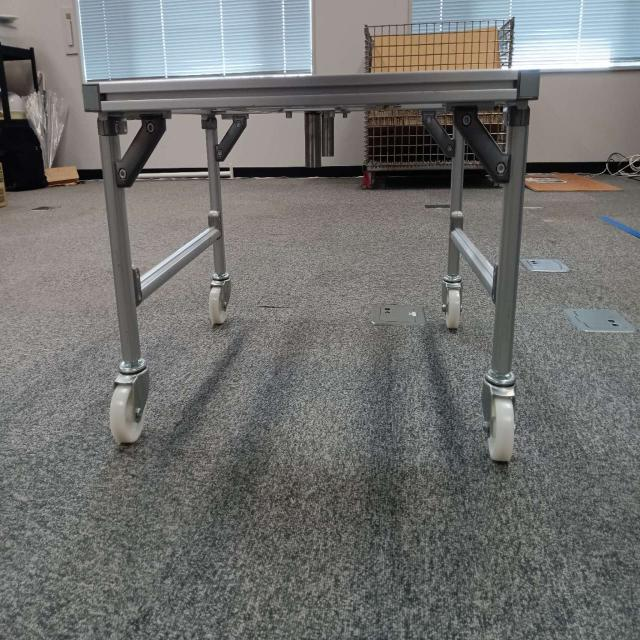door: (92, 70, 529, 194)
